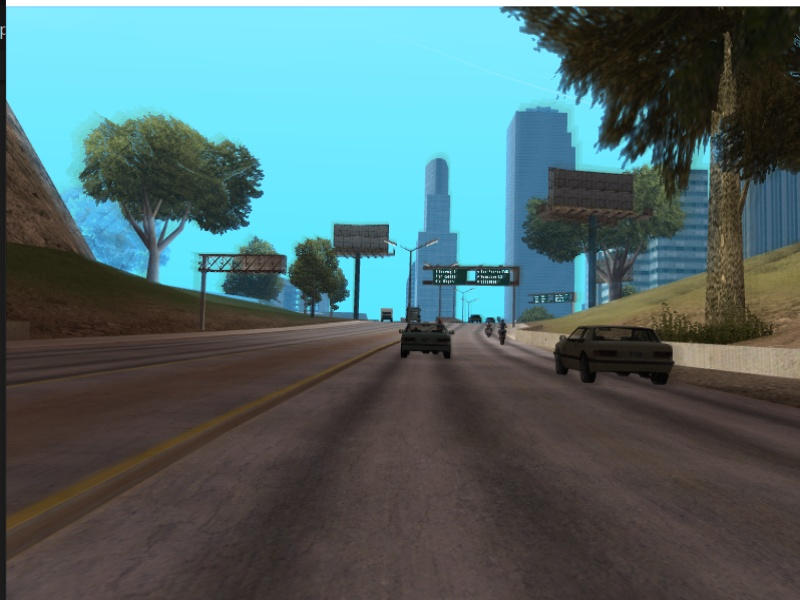pole: (199, 255, 210, 334), (404, 249, 415, 315)
tree: (699, 84, 757, 335)
vehicle: (557, 312, 677, 389), (402, 320, 453, 360), (376, 306, 396, 325), (498, 318, 512, 345), (484, 318, 493, 338)
